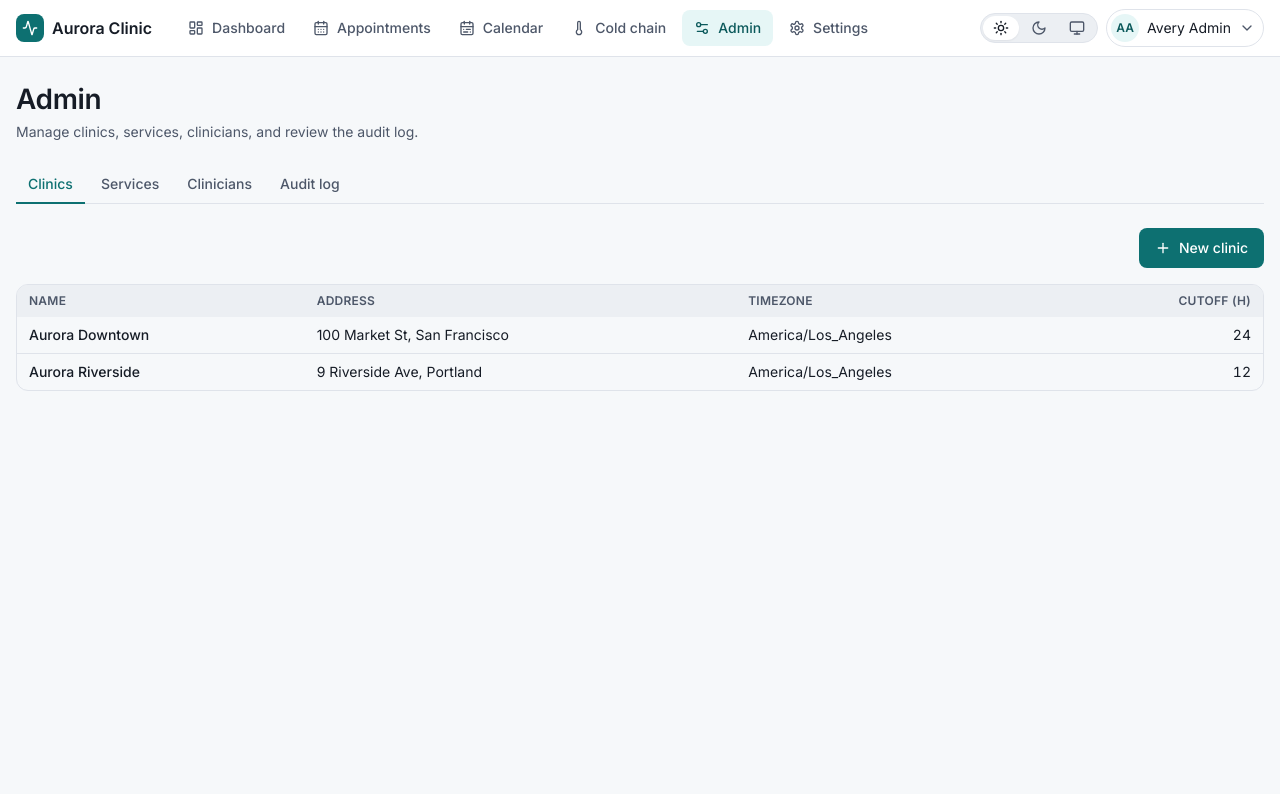
it: clinics admin › creates a clinic and shows it in the table
Click the button "New clinic".
click(1201, 248)  # box [1139,228,1264,268]
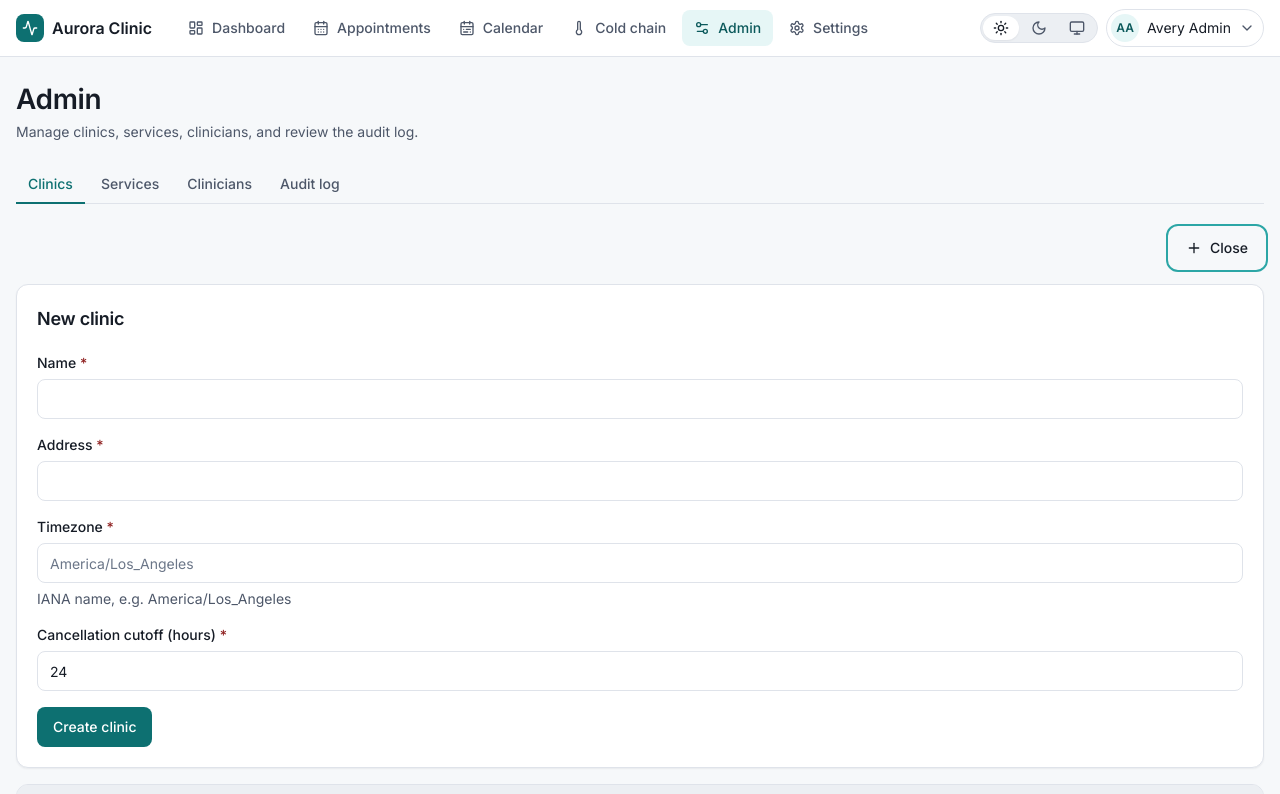
Type "Aurora Uptown" into the field labelled "Name *".
click(640, 399); type("Aurora Uptown")  # box [37,379,1243,419]
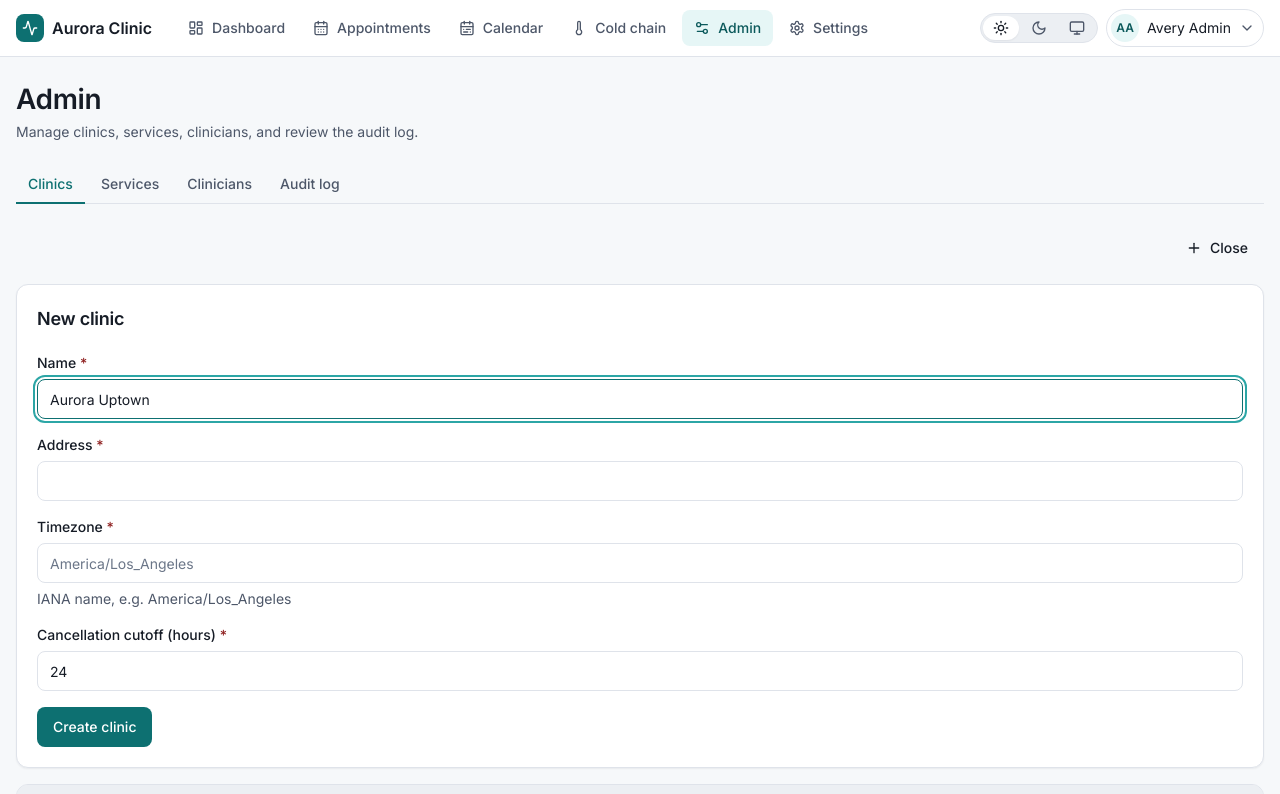
Type "5 Hill Rd" into the field labelled "Address *".
click(640, 481); type("5 Hill Rd")  # box [37,461,1243,501]
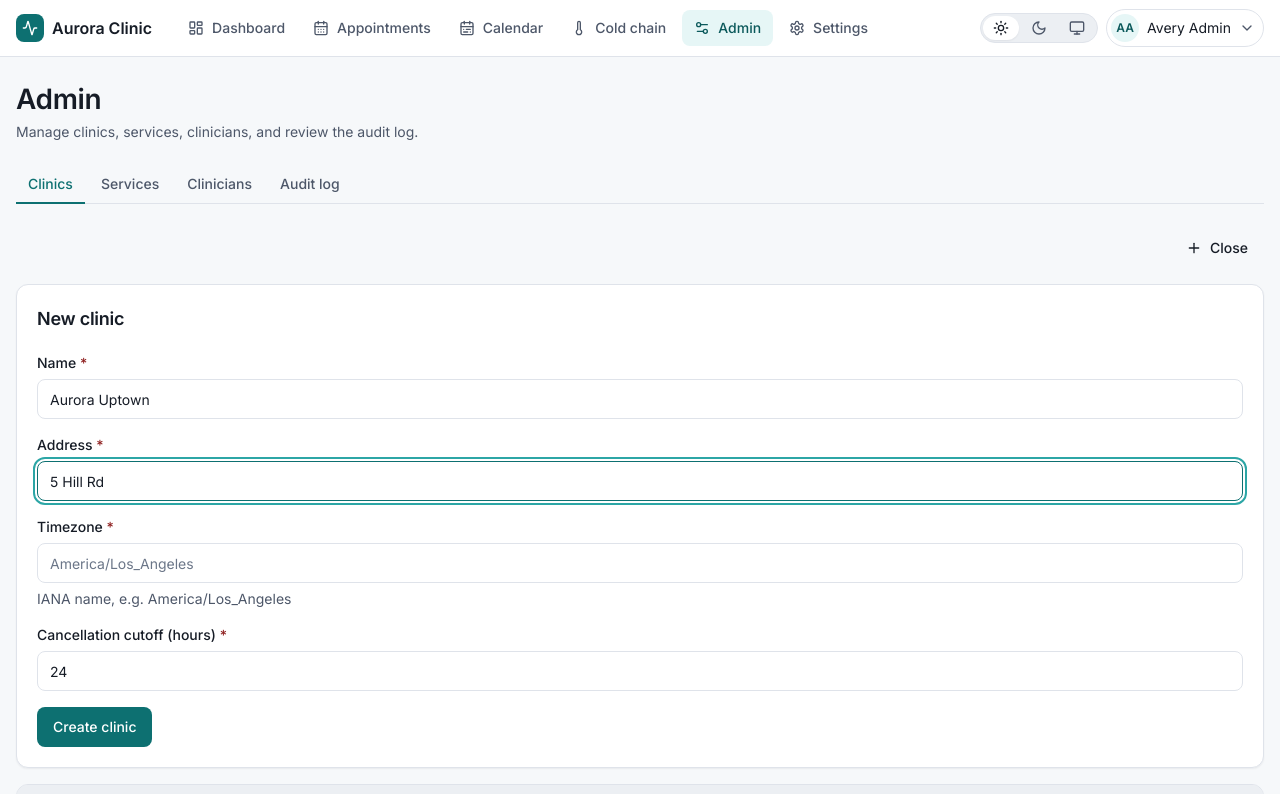
Type "America/New_York" into the field labelled "Timezone *".
click(640, 563); type("America/New_York")  # box [37,543,1243,583]
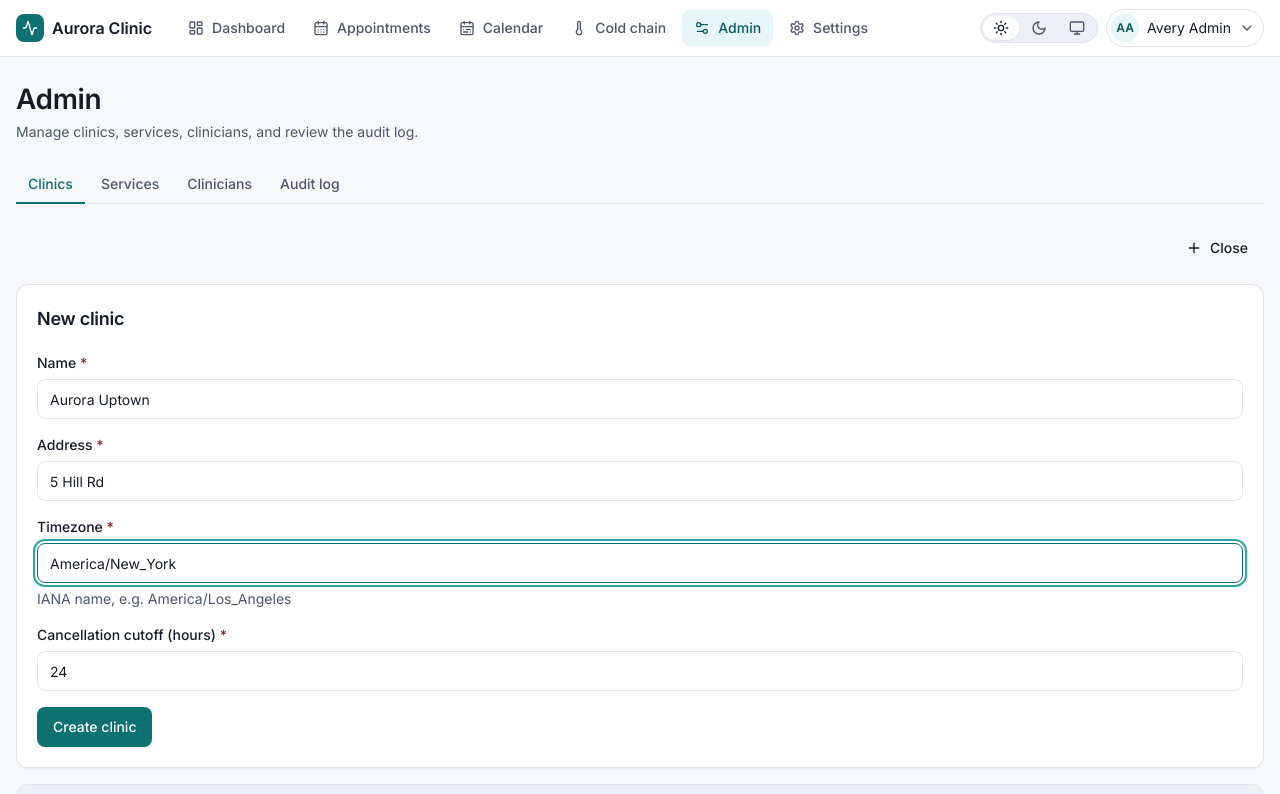
Click the button "Create clinic".
click(95, 727)  # box [37,707,152,747]
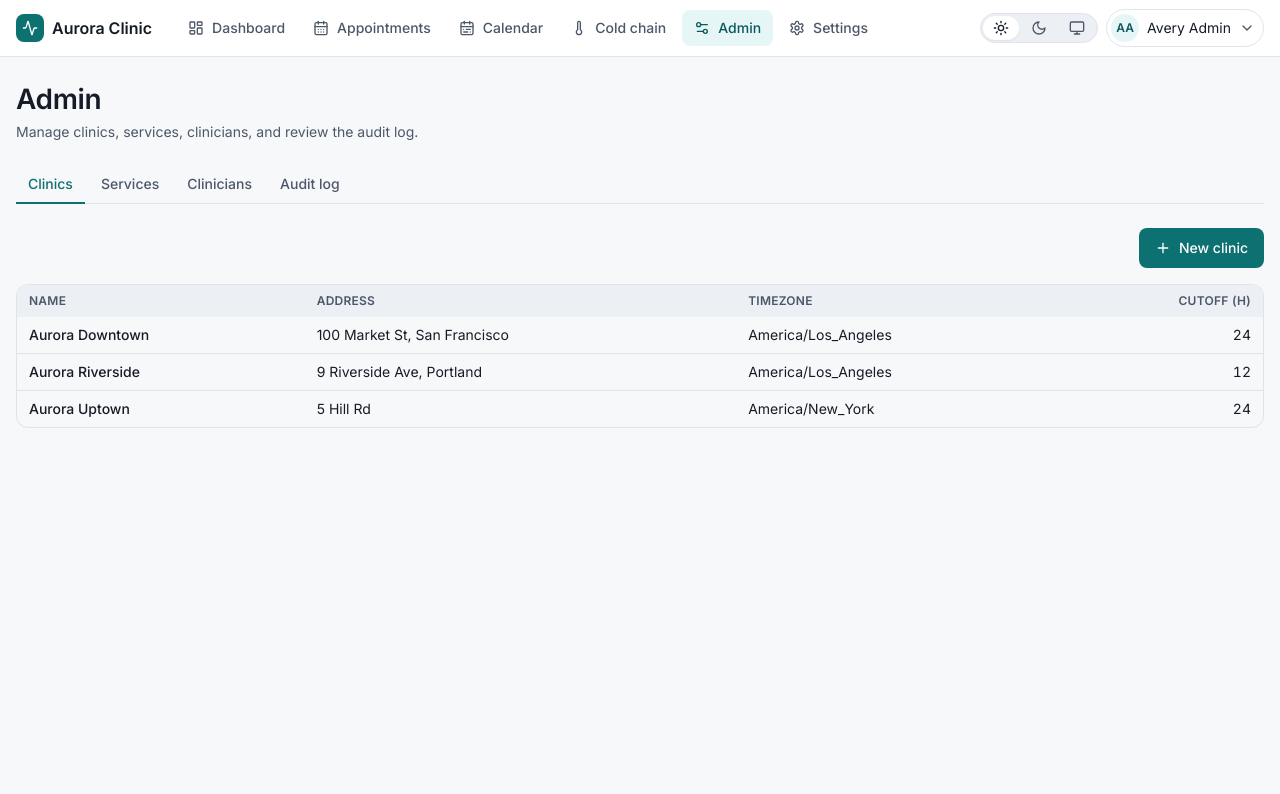
expect the text "Aurora Uptown" is shown: met, box [17,391,305,427]
